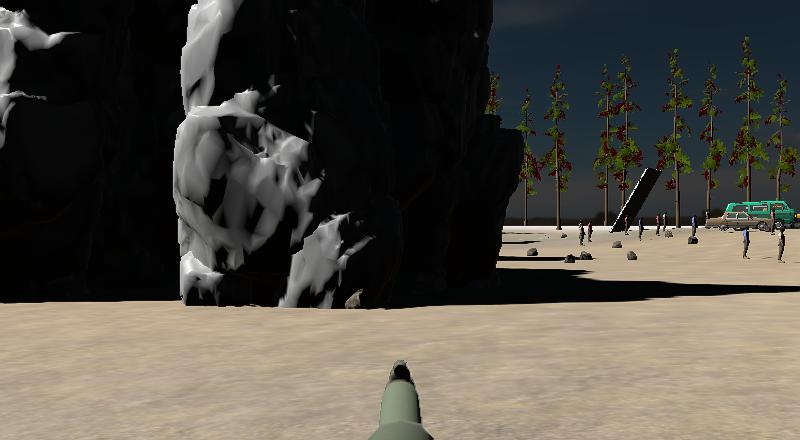Human: (776, 226, 787, 264), (742, 228, 751, 260), (662, 209, 670, 235), (637, 216, 645, 242), (577, 220, 584, 246), (587, 218, 594, 243), (624, 214, 630, 236)
car: (725, 200, 796, 227), (726, 201, 797, 227), (703, 212, 774, 231)
